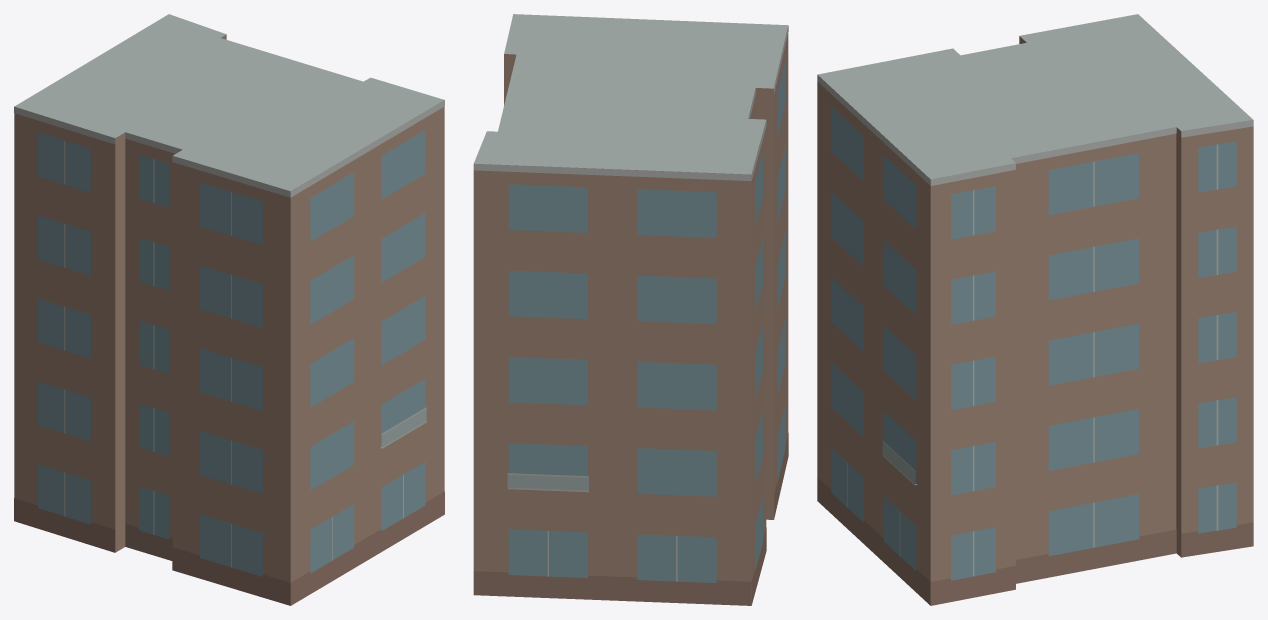
The model's file is survey-upis-32962816.glb.
3 views of the same model, side by side, from view 1: azimuth 30°, elevation 25°; view 2: azimuth 150°, elevation 25°; view 3: azimuth 270°, elevation 25° (orthographic). The views are drawn at different scales.
Visible parts, largest first — view 1: survey-upis-32962816.tmp; view 2: survey-upis-32962816.tmp; view 3: survey-upis-32962816.tmp.
Boxes of the visible parts, <box> form: survey-upis-32962816.tmp: <box>14,14,444,605</box>; survey-upis-32962816.tmp: <box>473,14,788,605</box>; survey-upis-32962816.tmp: <box>817,14,1253,605</box>.
Size of the model in its own units: 13.16 by 15.8 by 14.66.
